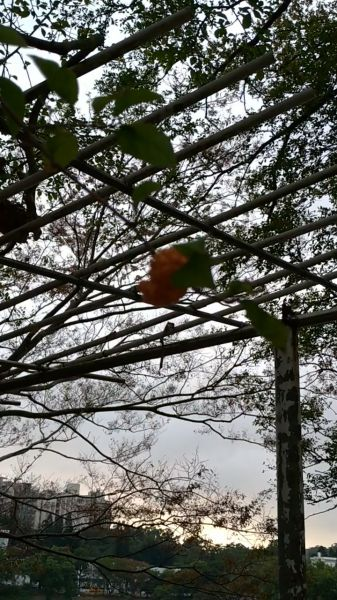eggs: (134, 245, 195, 312)
